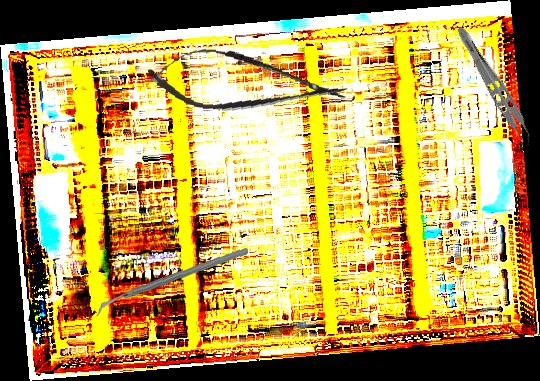Chopper: (96, 239, 248, 324)
Micro Scissor: (144, 40, 351, 125)
Tissue Forceps: (446, 24, 539, 151)
